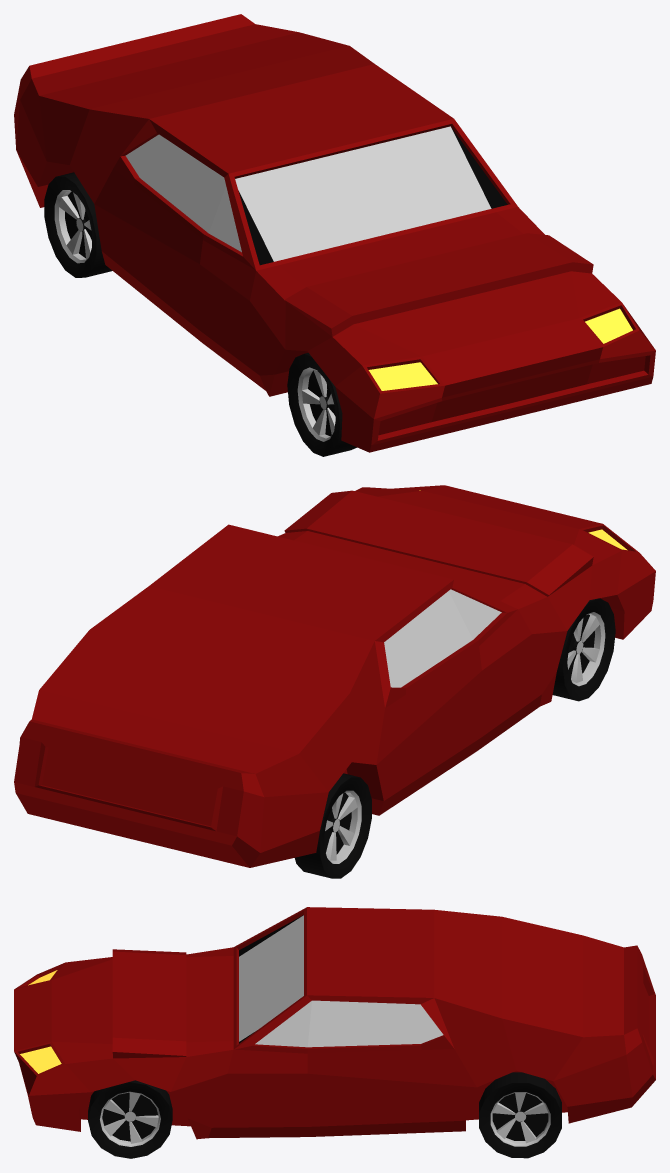
Rendered from redcar.fbx.
3 views of the same model, one above another, from view 1: azimuth 30°, elevation 25°; view 2: azimuth 150°, elevation 25°; view 3: azimuth 270°, elevation 25° (orthographic). The views are drawn at different scales.
Parts seen in each view (by area): view 1: car.001, Backwheel.001, frontWheer.001; view 2: car.001, Backwheel.001, frontWheer.001; view 3: car.001, Backwheel.001, frontWheer.001.
Boxes of the visible parts, x1,y1,x2,y2 form: car.001: [14, 14, 655, 452]; Backwheel.001: [44, 172, 112, 277]; frontWheer.001: [287, 352, 356, 456]; car.001: [14, 485, 655, 867]; Backwheel.001: [295, 773, 371, 878]; frontWheer.001: [552, 598, 615, 701]; car.001: [14, 907, 655, 1139]; Backwheel.001: [479, 1072, 561, 1158]; frontWheer.001: [88, 1080, 172, 1158].
Bounding box in the file's own units: 452 × 295 × 1111.
